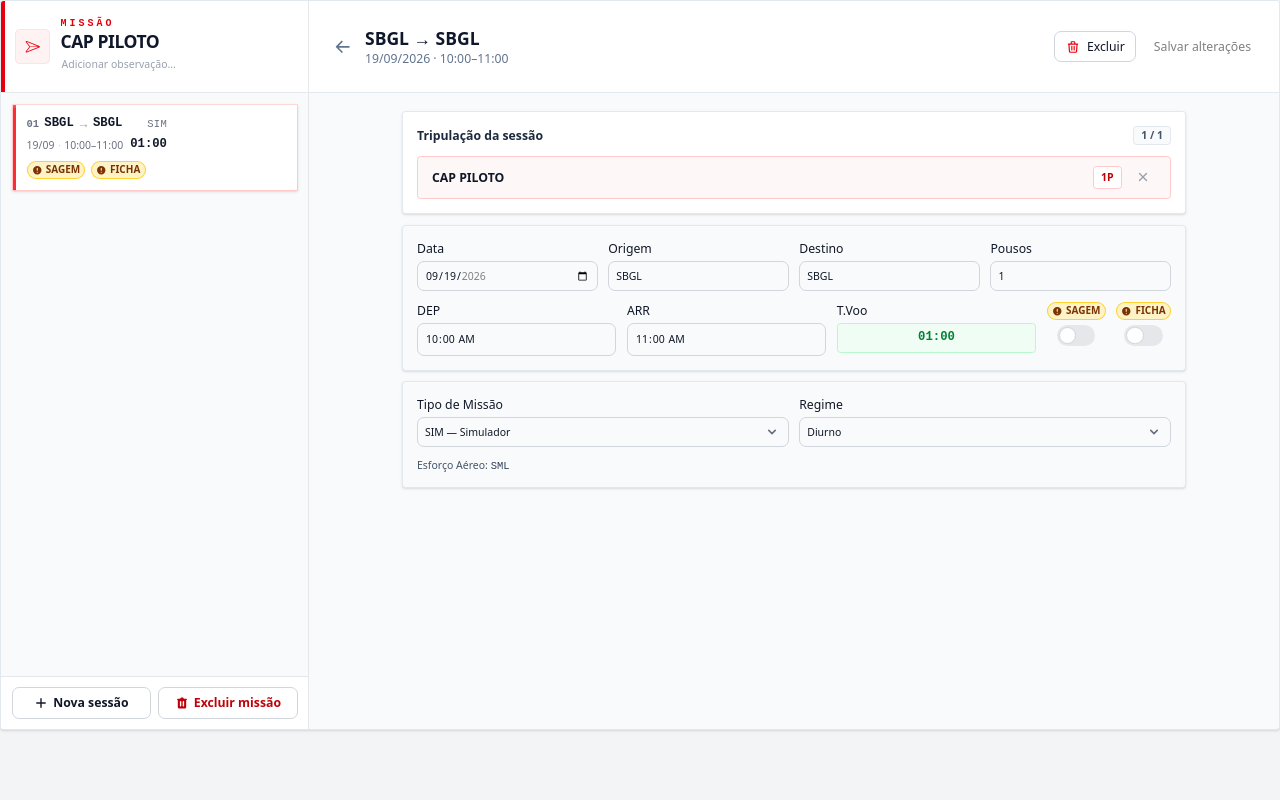
Test case: rascunhos da missão de simulador › não navega quando a API não removeu a missão, mesmo com uma só sessão local
The width and height of the screenshot is (1280, 800).
Click the button with aria-label "Excluir sessão".
click(1095, 47)  # box [1054,31,1136,62]
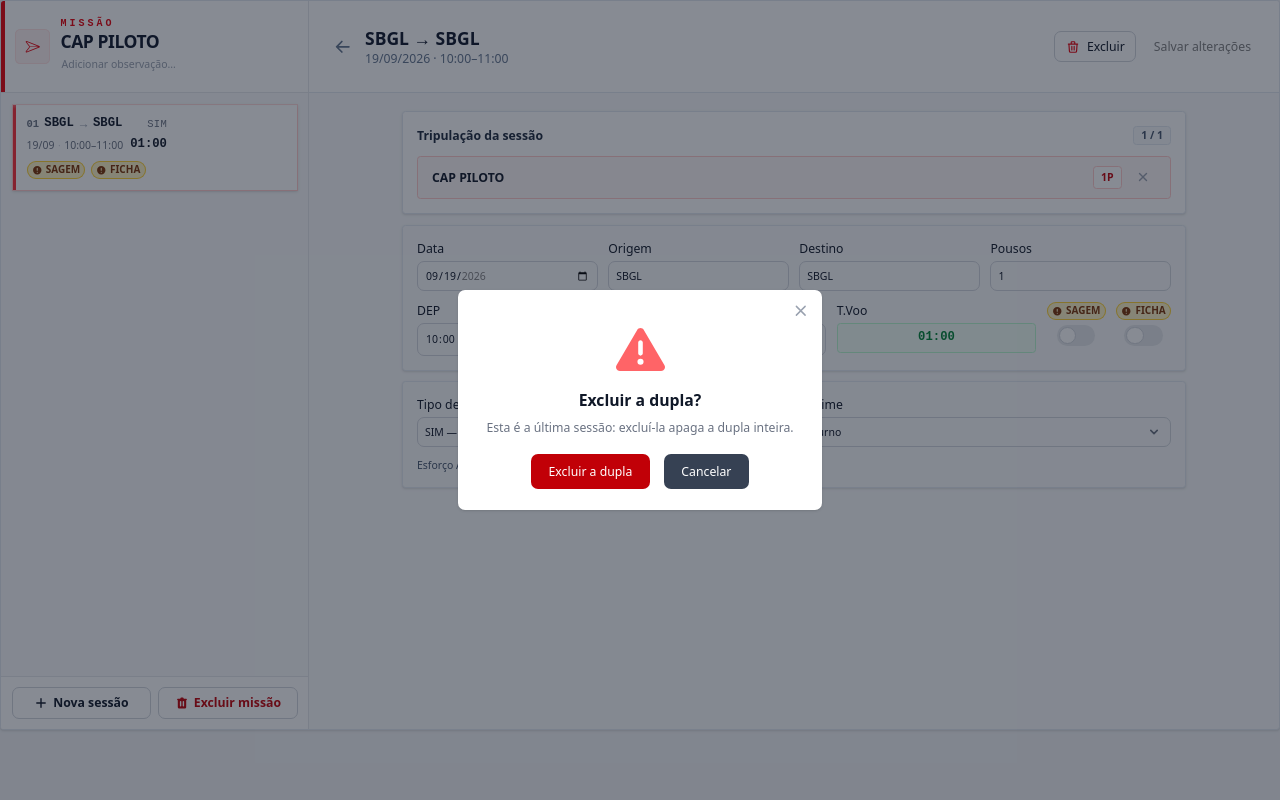
Click the button "Excluir a dupla".
click(590, 472)  # box [531,454,650,489]
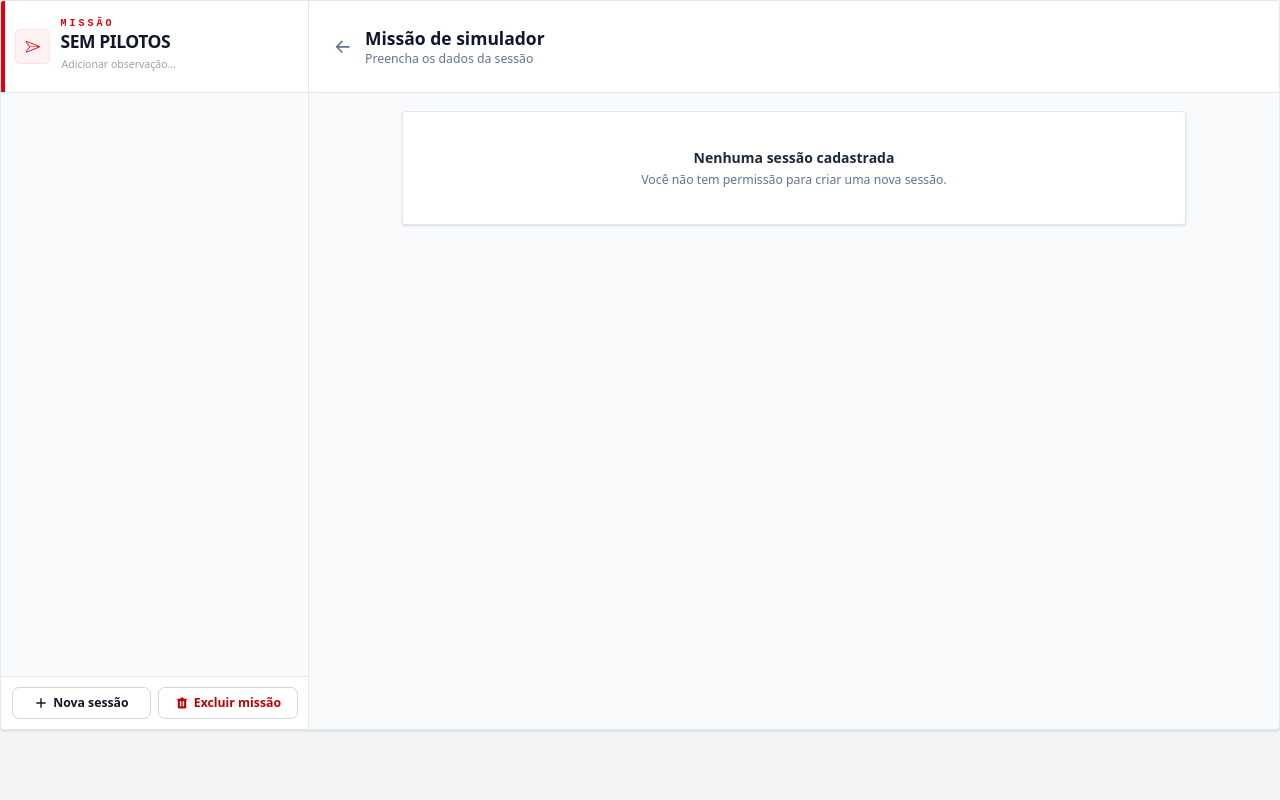
Expected: the heading "Nenhuma sessão cadastrada" is shown, [694,148,894,166]
